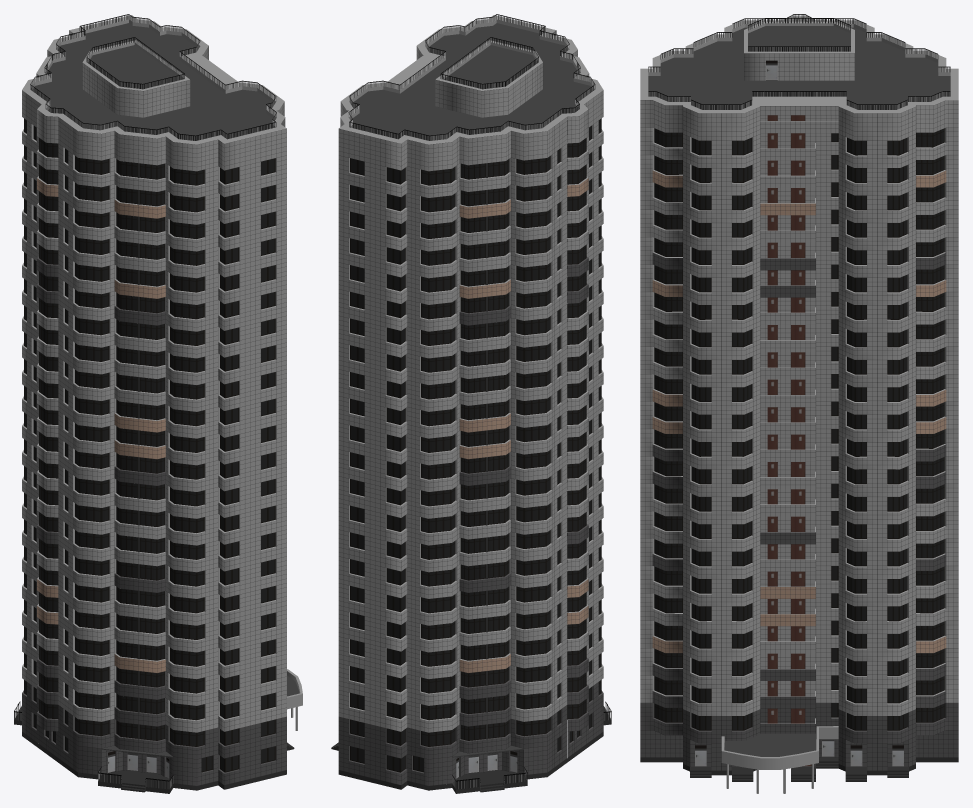
Rendered from house_moscow_res1.glb.
The picture shows the model from 3 angles, left to right: view 1: azimuth 30°, elevation 25°; view 2: azimuth 150°, elevation 25°; view 3: azimuth 270°, elevation 25°; orthographic projection. The views are drawn at different scales.
Parts seen in each view (by area): view 1: tower_Material #26_0; view 2: tower_Material #26_0; view 3: tower_Material #26_0.
Part boxes in pixels (x1,y1,x2,y2): tower_Material #26_0: (14, 14, 302, 793); tower_Material #26_0: (331, 14, 611, 793); tower_Material #26_0: (640, 14, 958, 793).
Size of the model in its own units: 27.92 by 75.7 by 31.59.
Materials: 1 (1 with a texture image).
